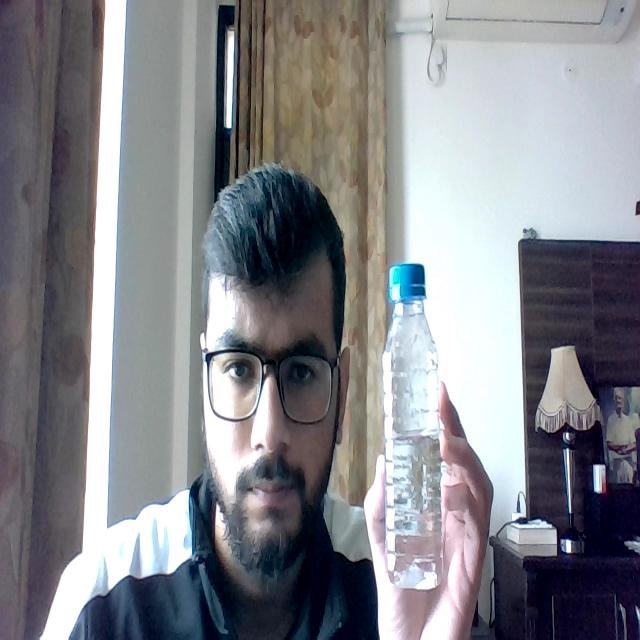half-bottle: (381, 259, 444, 592)
